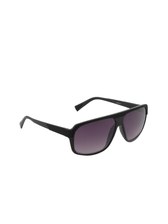glasses: (18, 93, 152, 156)
